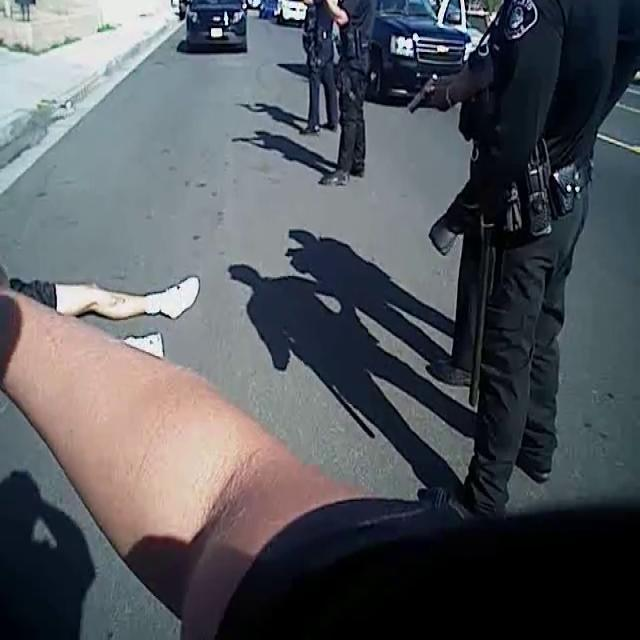gun: (398, 57, 460, 131)
